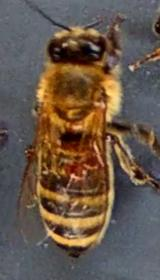varroa_mite: (66, 152, 92, 186)
